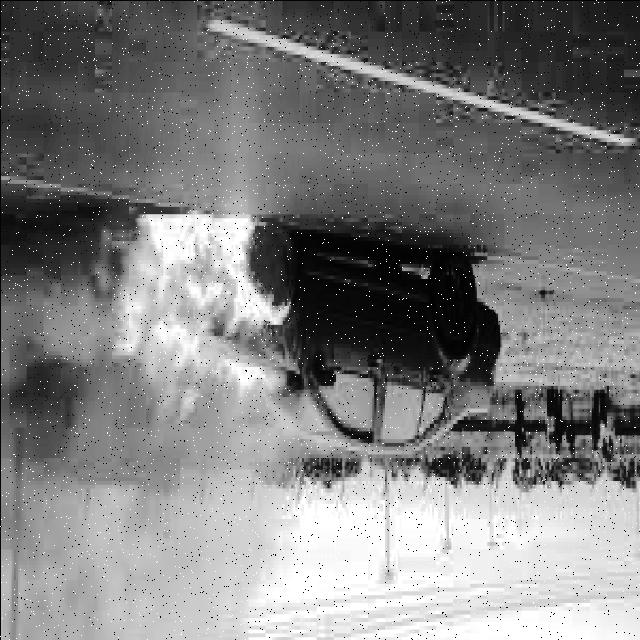api: (106, 188, 298, 413)
